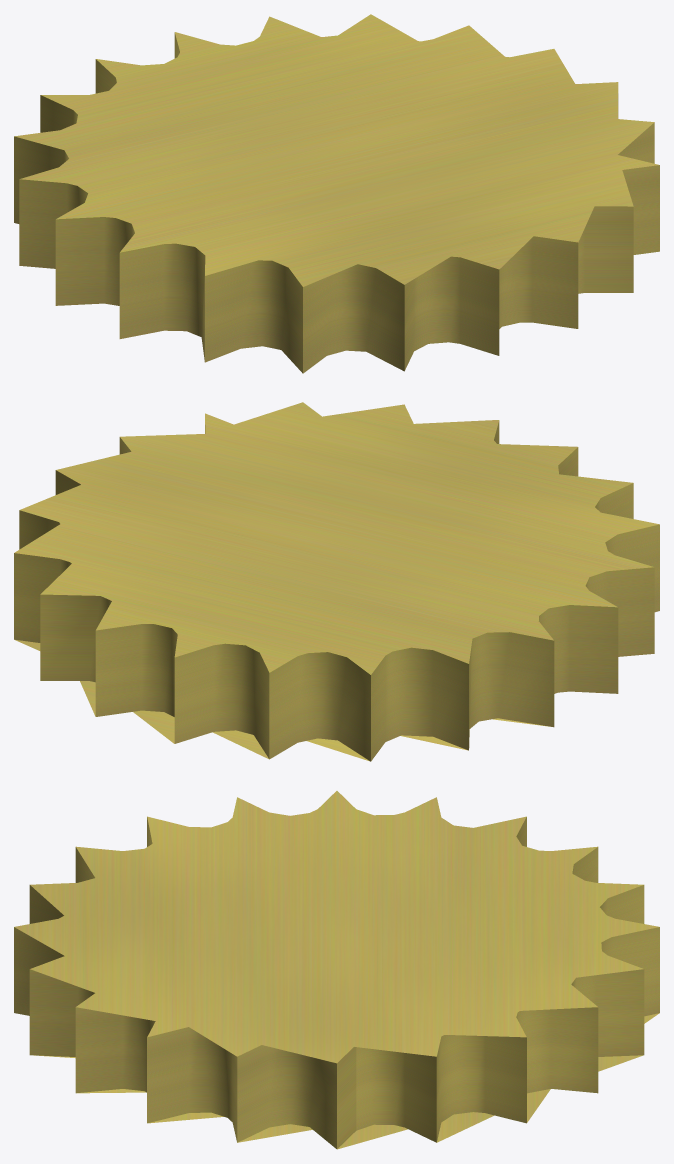
File: Sprocket6Spoke020.fbx
The picture shows the model from 3 angles, top to bottom: view 1: azimuth 30°, elevation 25°; view 2: azimuth 150°, elevation 25°; view 3: azimuth 270°, elevation 25°; orthographic projection.
Visible parts, largest first — view 1: Sprocket6Spoke020; view 2: Sprocket6Spoke020; view 3: Sprocket6Spoke020.
Boxes of the visible parts, x1,y1,x2,y2 form: Sprocket6Spoke020: (14, 14, 659, 373); Sprocket6Spoke020: (14, 402, 659, 761); Sprocket6Spoke020: (14, 791, 659, 1149).
Bounding box in the file's own units: 134 × 19.69 × 134.
